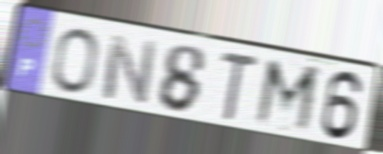6: (319, 69, 364, 143)
8: (158, 43, 208, 115)
M: (251, 56, 323, 139)
N: (99, 31, 159, 108)
O: (50, 26, 100, 97)
T: (219, 48, 262, 124)
